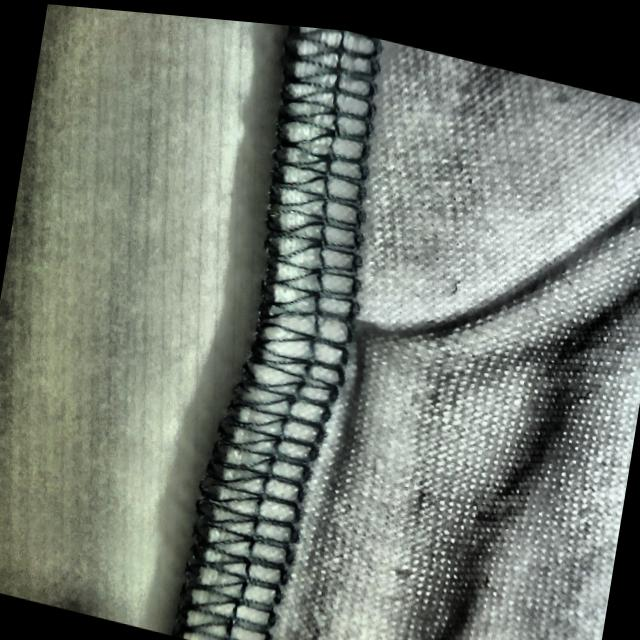seam: (136, 187, 548, 558)
